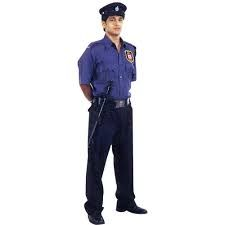uniform: (84, 37, 137, 205)
